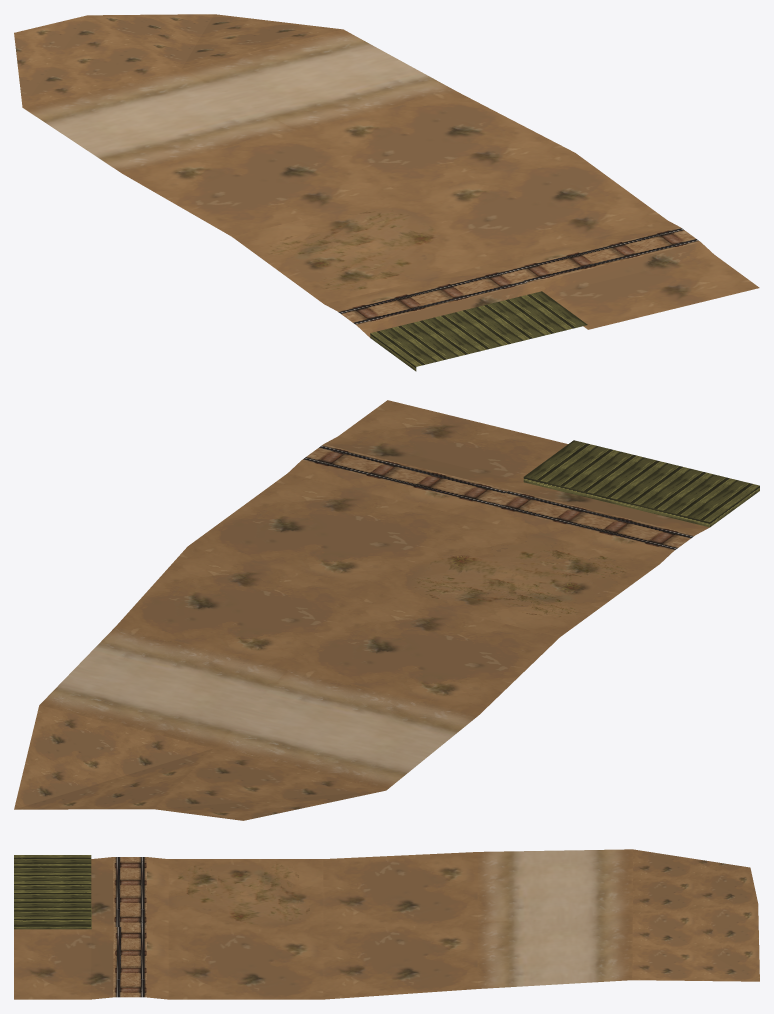
The picture shows the model from 3 angles, top to bottom: view 1: azimuth 30°, elevation 25°; view 2: azimuth 150°, elevation 25°; view 3: azimuth 270°, elevation 25°; orthographic projection. The views are drawn at different scales.
Visible parts, largest first — view 1: Object07; view 2: Object07; view 3: Object07.
Boxes of the visible parts, x1,y1,x2,y2 form: Object07: [14, 14, 759, 371]; Object07: [14, 400, 759, 820]; Object07: [14, 849, 759, 999].
Size of the model in its own units: 4925 by 457 by 10318.
Materials: 5 (5 with a texture image).
